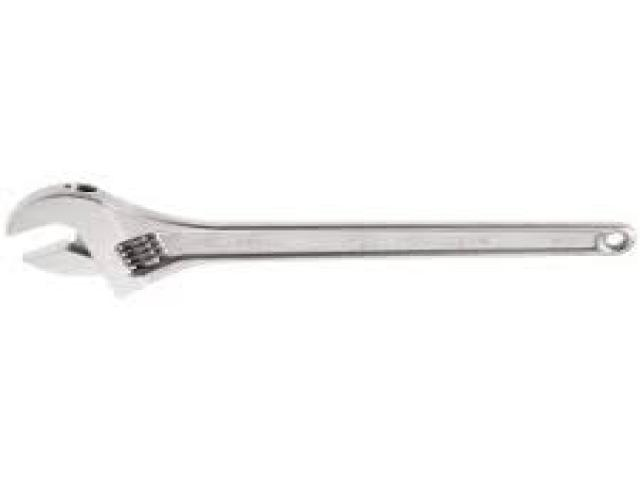Adjustable spanner: (8, 183, 633, 300)
